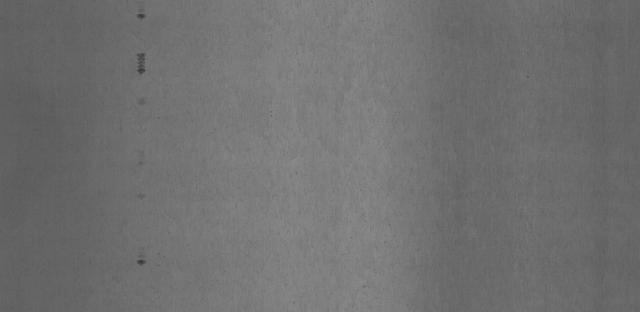oil_spot: (132, 49, 147, 79), (134, 250, 148, 265), (135, 188, 149, 203), (135, 5, 148, 20), (136, 94, 148, 107)
